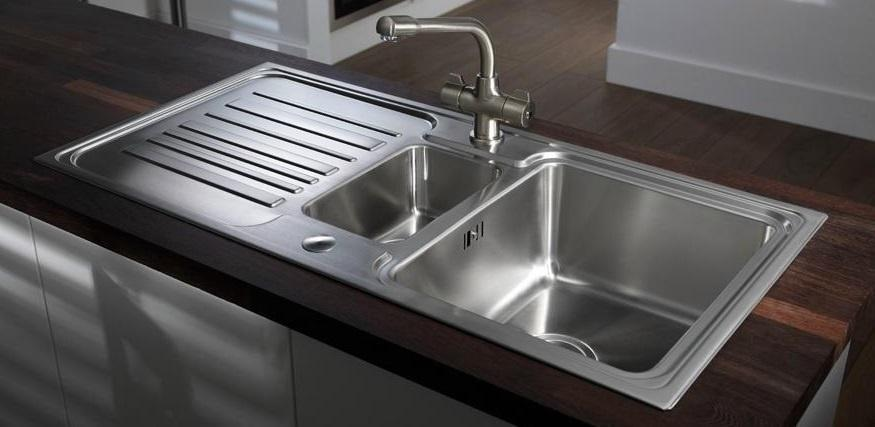Lavaplatos: (58, 17, 827, 401)
